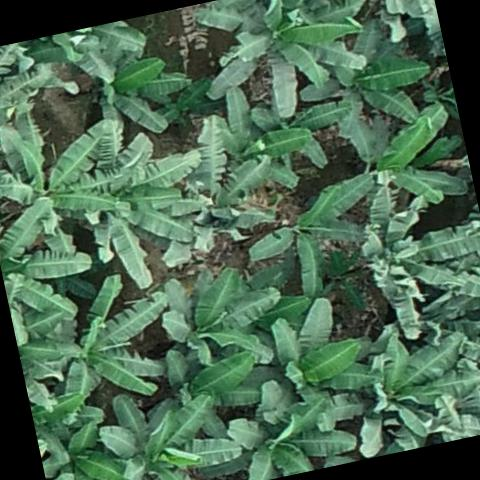Banana-plant: (77, 124, 220, 291), (190, 0, 381, 125), (30, 267, 182, 417), (351, 173, 480, 342), (322, 322, 480, 457), (288, 14, 439, 144), (157, 102, 285, 253), (230, 290, 372, 424), (0, 105, 130, 241), (151, 255, 292, 378), (212, 366, 355, 480), (92, 373, 243, 480), (72, 23, 198, 150), (236, 176, 388, 281), (0, 188, 101, 337), (354, 100, 476, 222), (197, 77, 316, 198), (144, 333, 266, 440), (246, 79, 360, 173), (33, 408, 119, 480), (347, 0, 438, 33)
